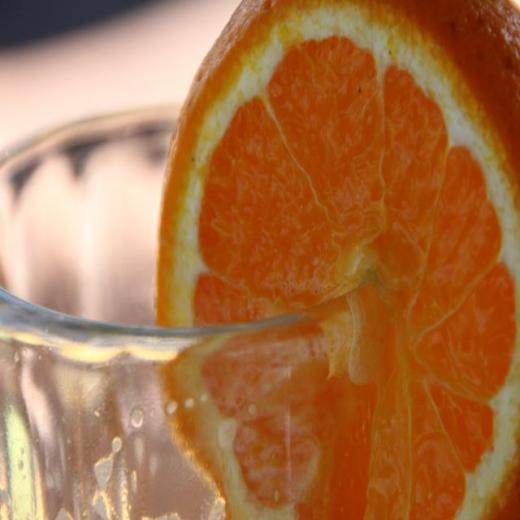Grape: (153, 0, 520, 520)
